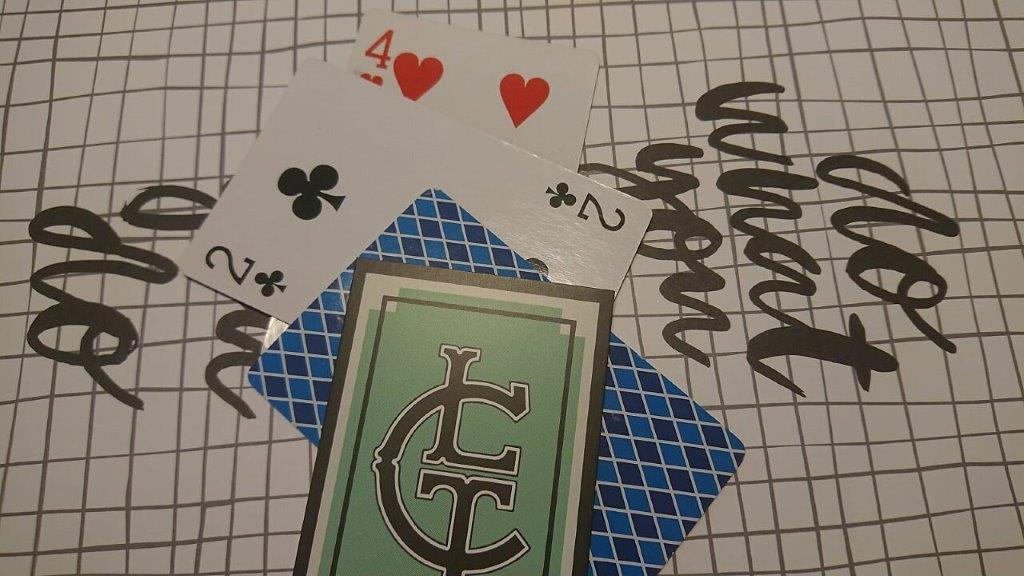2C: (180, 69, 655, 327)
4H: (345, 7, 603, 71)
BACK: (612, 330, 747, 576)
